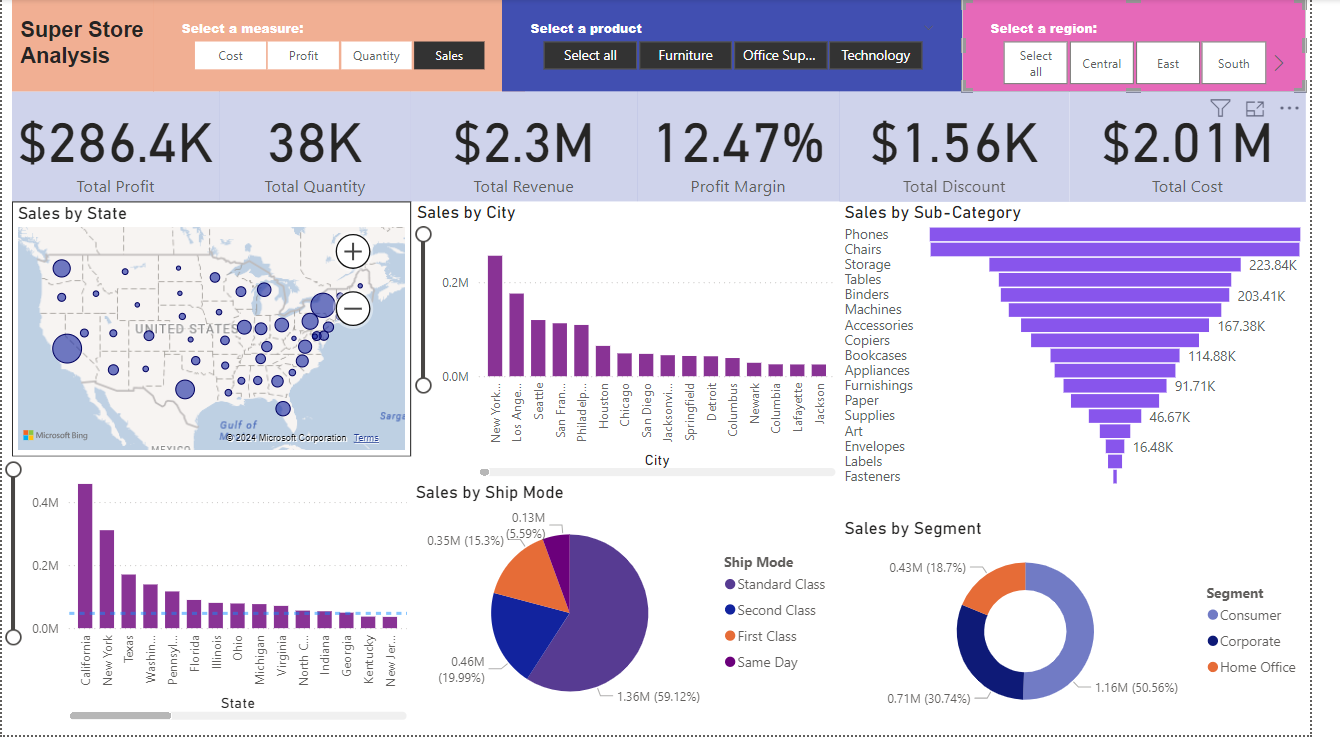

The dashboard page shown, as its layout file describes it:
{"tool":"powerbi","page":{"name":"Page 1","canvas":[1280,720],"ordinal":0},"visuals":[{"type":"card","fields":{"Values":["Sum(SampleSuperstore.Profit)"]},"box":[9.8,90.5,203,107.6],"z":0},{"type":"card","fields":{"Values":["Sum(SampleSuperstore.Quantity)"]},"box":[212.8,90.5,187.1,107.6],"z":1000},{"type":"card","fields":{"Values":["SampleSuperstore.Revenue"]},"box":[399.9,90.5,221.3,107.6],"z":2000},{"type":"card","fields":{"Values":["SampleSuperstore.Profit Margin"]},"box":[621.2,90.5,198.1,107.6],"z":3000},{"type":"funnel","fields":{"Category":["SampleSuperstore.Sub-Category"],"Y":["Metric Table.Selected Metric Value"]},"box":[819.3,198.1,461,282.5],"z":5000},{"type":"clusteredColumnChart","fields":{"Category":["SampleSuperstore.City"],"Y":["Metric Table.Selected Metric Value"]},"box":[401.1,198.1,419.4,273.9],"z":6000},{"type":"map","fields":{"Category":["SampleSuperstore.State"],"Size":["Metric Table.Selected Metric Value"]},"box":[9.8,198.1,390.1,249.5],"z":7000},{"type":"clusteredColumnChart","fields":{"Category":["SampleSuperstore.State"],"Y":["Metric Table.Selected Metric Value"]},"box":[0,447.6,401.1,262.9],"z":8000},{"type":"pieChart","fields":{"Category":["SampleSuperstore.Ship Mode"],"Y":["Metric Table.Selected Metric Value"]},"box":[399.9,472,419.4,238.5],"z":9000},{"type":"donutChart","fields":{"Category":["SampleSuperstore.Segment"],"Y":["Metric Table.Selected Metric Value"]},"box":[819.3,507.5,461,203],"z":10000},{"type":"textbox","box":[9.8,0,138.2,90.5],"z":11000},{"type":"slicer","fields":{"Values":["Metric Table.Metric"]},"box":[148,0,363.2,90.5],"z":12000},{"type":"slicer","fields":{"Values":["SampleSuperstore.Category"]},"box":[489.1,0,450,90.5],"z":13000},{"type":"slicer","fields":{"Values":["SampleSuperstore.Region"]},"box":[939.1,0,336.3,90.5],"z":13001},{"type":"card","fields":{"Values":["Sum(SampleSuperstore.Cost)"]},"box":[1044.3,90.5,231.1,107.6],"z":13002},{"type":"card","fields":{"Values":["Sum(SampleSuperstore.Discount)"]},"box":[819.3,90.5,225,107.6],"z":13003}]}

Visuals, with their boxes in screenshot pixels (x1, y1, x2, y2), scaled from the page's 1280x720 canvas onto the 1340x739 screenshot:
card - Sum(SampleSuperstore.Profit): <bbox>10, 93, 223, 203</bbox>
card - Sum(SampleSuperstore.Quantity): <bbox>223, 93, 419, 203</bbox>
card - SampleSuperstore.Revenue: <bbox>419, 93, 650, 203</bbox>
card - SampleSuperstore.Profit Margin: <bbox>650, 93, 858, 203</bbox>
funnel - SampleSuperstore.Sub-Category x Metric Table.Selected Metric Value: <bbox>858, 203, 1339, 493</bbox>
clusteredColumnChart - SampleSuperstore.City x Metric Table.Selected Metric Value: <bbox>420, 203, 859, 484</bbox>
map - SampleSuperstore.State x Metric Table.Selected Metric Value: <bbox>10, 203, 419, 459</bbox>
clusteredColumnChart - SampleSuperstore.State x Metric Table.Selected Metric Value: <bbox>0, 459, 420, 729</bbox>
pieChart - SampleSuperstore.Ship Mode x Metric Table.Selected Metric Value: <bbox>419, 484, 858, 729</bbox>
donutChart - SampleSuperstore.Segment x Metric Table.Selected Metric Value: <bbox>858, 521, 1339, 729</bbox>
textbox: <bbox>10, 0, 155, 93</bbox>
slicer - Metric Table.Metric: <bbox>155, 0, 535, 93</bbox>
slicer - SampleSuperstore.Category: <bbox>512, 0, 983, 93</bbox>
slicer - SampleSuperstore.Region: <bbox>983, 0, 1335, 93</bbox>
card - Sum(SampleSuperstore.Cost): <bbox>1093, 93, 1335, 203</bbox>
card - Sum(SampleSuperstore.Discount): <bbox>858, 93, 1093, 203</bbox>
